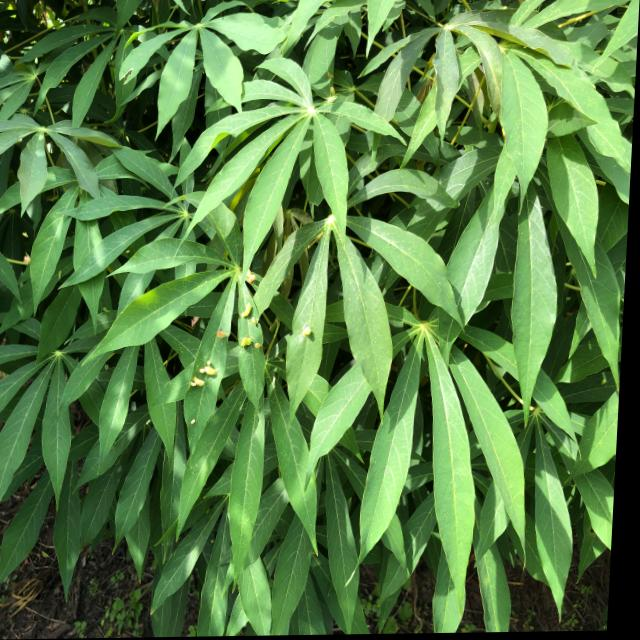Mosca: (183, 349, 226, 394), (232, 303, 267, 327), (287, 318, 318, 345), (178, 411, 205, 431), (238, 336, 265, 354), (237, 265, 258, 283), (212, 318, 231, 336)
